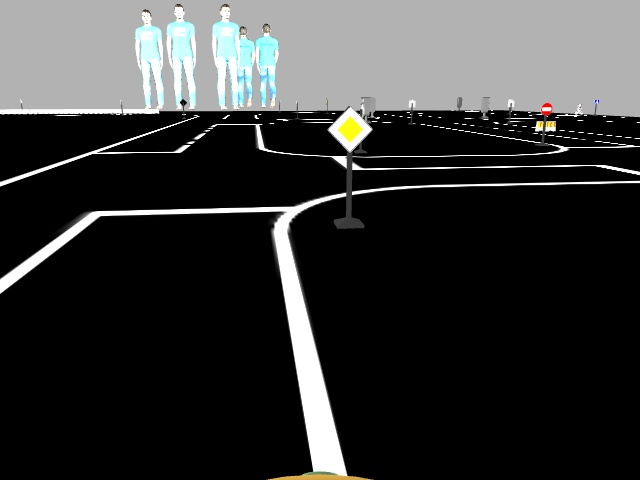ClosedRoadStand: (535, 119, 556, 133)
NoEntry: (537, 101, 552, 116)
Priority: (326, 105, 373, 153)
